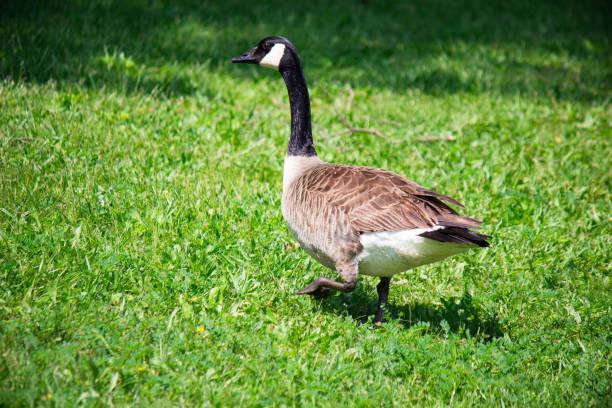Canadian-Goose: (233, 34, 487, 310)
